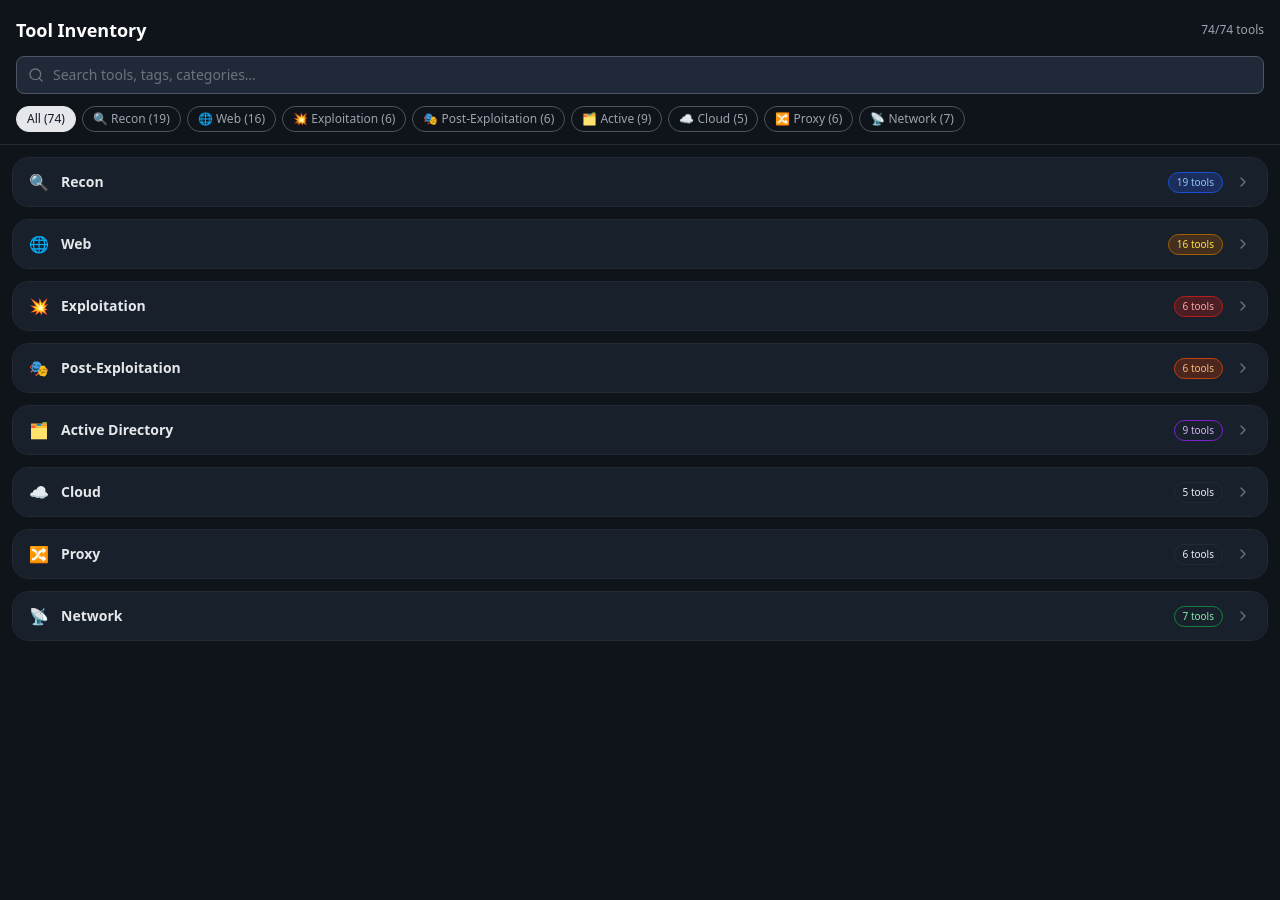
Test: ToolInventory › shows empty state for no search results
Type "XYZUNMATCHABLE99999" into the field with test id "tool-search-input" at (640, 75), box [16,56,1264,94]
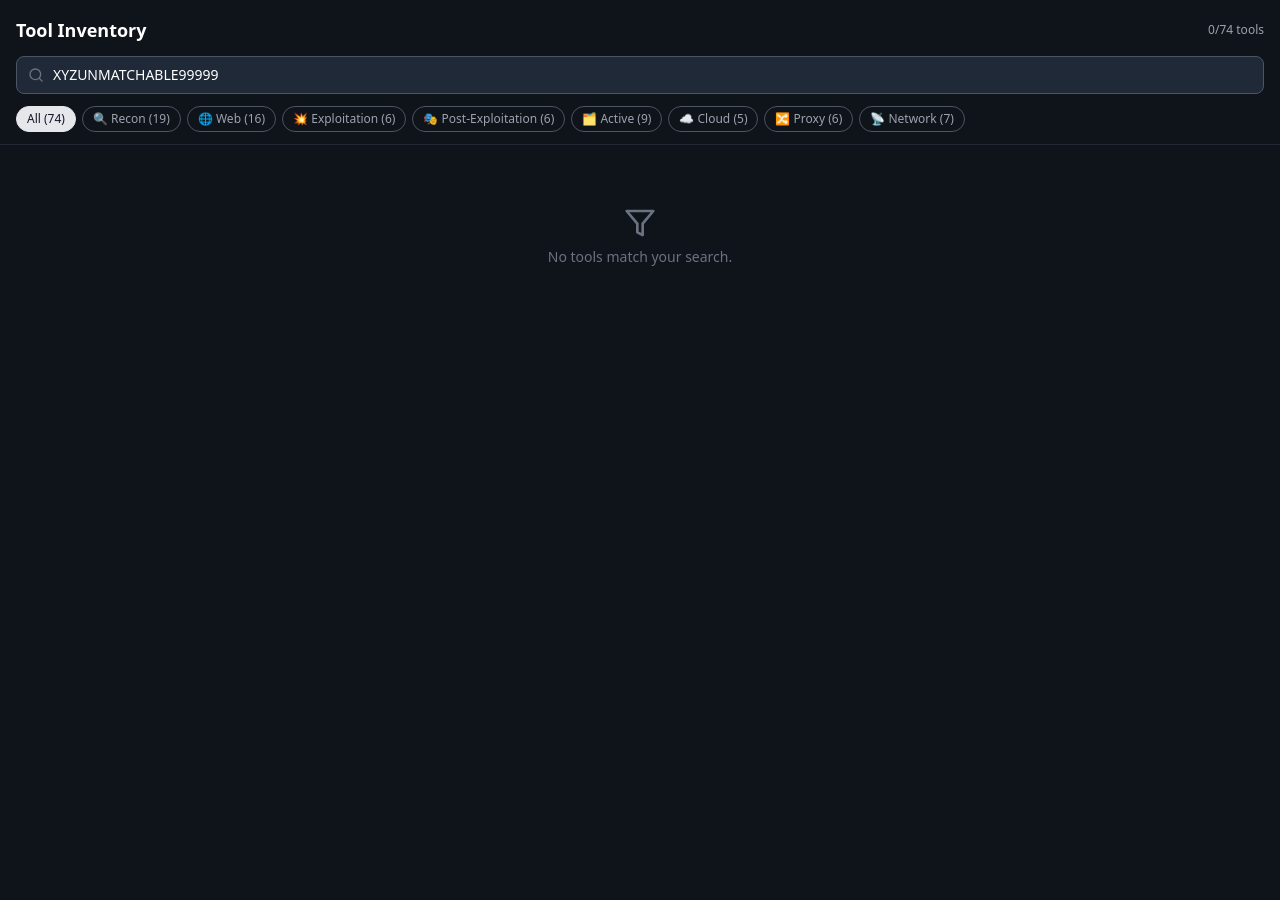
expect the text "No tools match your search." is shown: met, box [548,247,732,267]
